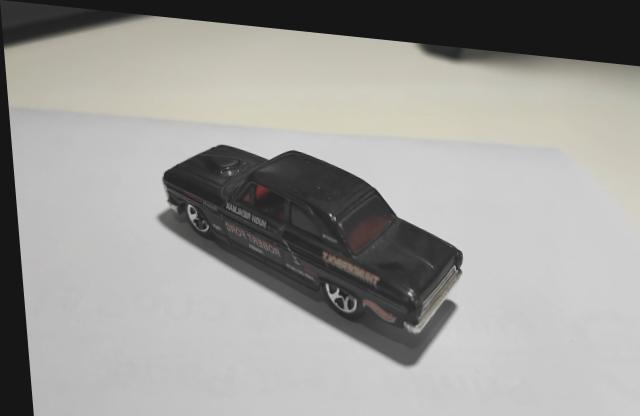01_FORD: (158, 141, 458, 360)
